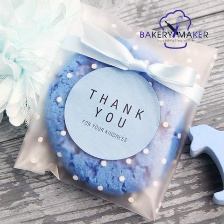snack: (7, 0, 223, 224)
